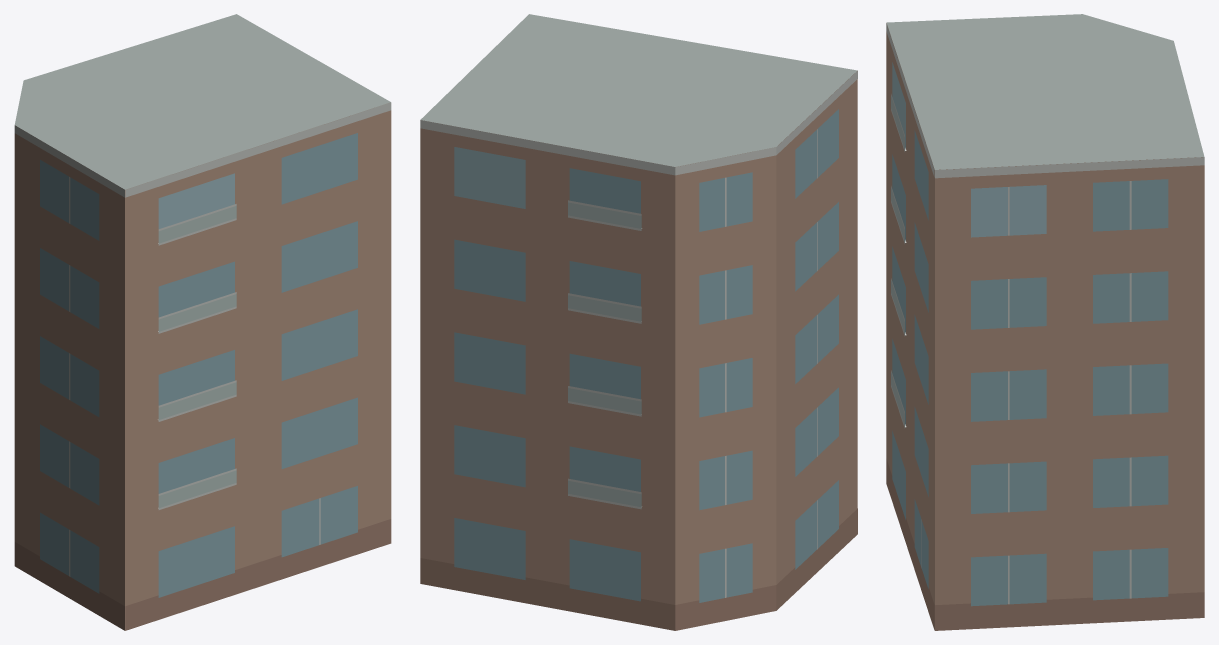
Rendered from survey-upis-32905631.glb.
3 views of the same model, side by side, from view 1: azimuth 30°, elevation 25°; view 2: azimuth 150°, elevation 25°; view 3: azimuth 270°, elevation 25° (orthographic). The views are drawn at different scales.
Visible parts, largest first — view 1: survey-upis-32905631.tmp; view 2: survey-upis-32905631.tmp; view 3: survey-upis-32905631.tmp.
Part boxes in pixels (x1=…): survey-upis-32905631.tmp: x1=14, y1=14, x2=391, y2=630; survey-upis-32905631.tmp: x1=420, y1=14, x2=857, y2=630; survey-upis-32905631.tmp: x1=886, y1=14, x2=1204, y2=630.
Bounding box in the file's own units: 9.81 × 13.5 × 8.46.
